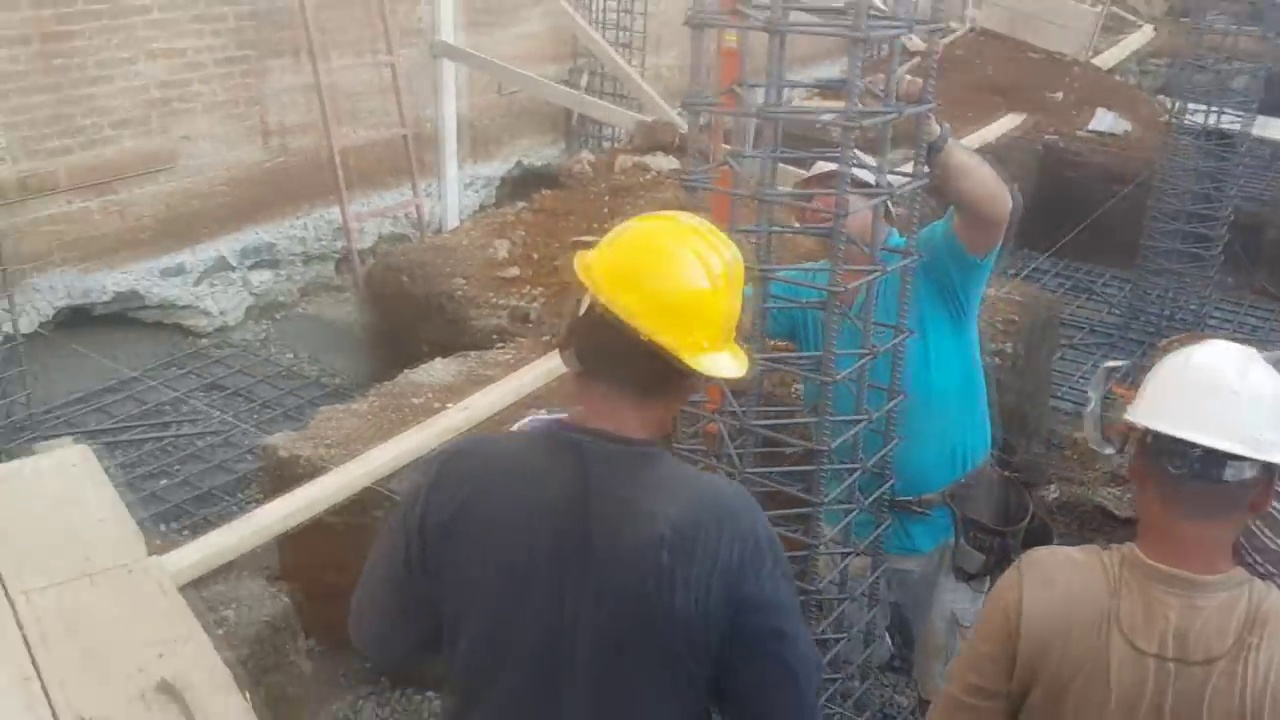helmet: (560, 203, 757, 384), (1105, 346, 1280, 485)
helmet-off: (786, 148, 903, 267)
helmet-on: (552, 205, 757, 446), (1100, 331, 1280, 593)
person: (323, 196, 809, 720), (762, 69, 1018, 720), (962, 337, 1280, 720)
